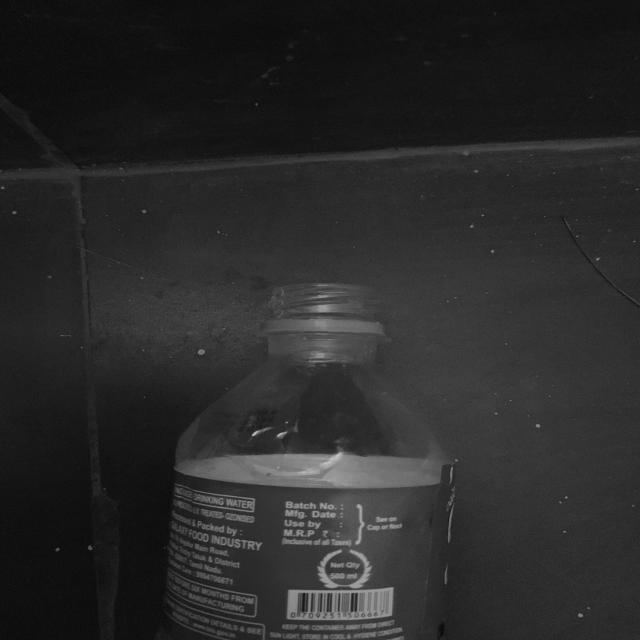open-cap: (262, 281, 381, 334)
